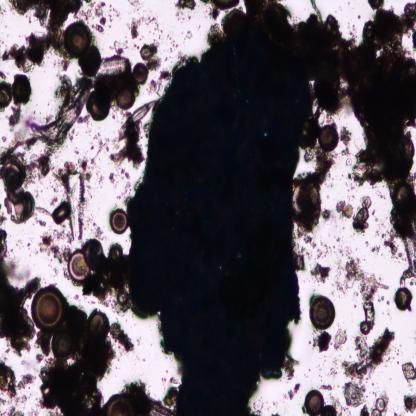Background material: (344, 35, 416, 182), (32, 302, 115, 416), (293, 0, 351, 111), (0, 258, 37, 350), (78, 254, 134, 312), (332, 254, 392, 303), (358, 0, 416, 50), (341, 328, 396, 380), (0, 29, 65, 69), (0, 132, 58, 174), (10, 0, 82, 28), (124, 382, 178, 416), (0, 362, 33, 416), (304, 150, 342, 188), (114, 128, 143, 168), (242, 0, 290, 24), (388, 200, 416, 238), (299, 102, 320, 150), (77, 0, 109, 31), (40, 231, 68, 266), (109, 319, 135, 354), (351, 194, 371, 237), (147, 63, 171, 96), (88, 133, 110, 165), (344, 379, 368, 406), (360, 300, 378, 335), (308, 328, 332, 352), (293, 216, 319, 237), (332, 323, 351, 350), (341, 125, 354, 159), (129, 16, 146, 41), (335, 199, 356, 219), (401, 358, 416, 385), (8, 106, 22, 134), (312, 264, 332, 283), (110, 35, 130, 54), (53, 171, 70, 193), (388, 229, 400, 260), (150, 17, 164, 41), (0, 227, 10, 260), (332, 399, 352, 415), (401, 393, 416, 414), (288, 379, 302, 401), (204, 24, 221, 42), (89, 219, 104, 239), (177, 0, 197, 14), (316, 241, 330, 260), (294, 254, 308, 273), (126, 0, 146, 13), (120, 180, 132, 199), (318, 208, 334, 222), (63, 158, 77, 174), (292, 240, 304, 257), (36, 205, 54, 216), (337, 246, 352, 258), (305, 234, 317, 249), (108, 3, 118, 21), (358, 404, 371, 416), (119, 168, 132, 180), (167, 33, 178, 47), (177, 12, 191, 22), (79, 160, 90, 171), (371, 244, 381, 256), (331, 357, 342, 367), (346, 182, 357, 192), (0, 3, 8, 16), (37, 217, 47, 227), (210, 10, 219, 21), (320, 384, 332, 392), (0, 69, 8, 80), (108, 173, 116, 184), (97, 175, 104, 187), (70, 127, 76, 141), (329, 369, 338, 378), (132, 41, 141, 50), (376, 190, 386, 198), (0, 132, 7, 143), (185, 29, 192, 40), (49, 196, 58, 204), (84, 172, 91, 182), (382, 231, 390, 239), (400, 252, 406, 262), (410, 278, 416, 288), (401, 276, 406, 287), (326, 181, 332, 188), (378, 294, 384, 301), (27, 241, 32, 249), (374, 216, 379, 224), (76, 147, 80, 155), (335, 237, 341, 242), (393, 411, 398, 416), (370, 380, 374, 386), (386, 301, 390, 306), (364, 242, 370, 245), (396, 352, 399, 356), (396, 360, 399, 364), (373, 210, 375, 216), (333, 244, 335, 249), (114, 116, 116, 120)
Cellulose filter fibre: (32, 78, 92, 144)
Diatom: (0, 154, 37, 224), (61, 170, 91, 247), (31, 284, 67, 330), (292, 178, 321, 221), (62, 21, 92, 61), (308, 295, 338, 329), (51, 328, 79, 364), (222, 6, 250, 42), (349, 153, 381, 184), (121, 102, 154, 130), (98, 54, 130, 82), (64, 246, 90, 279), (317, 121, 341, 156), (78, 42, 101, 78), (12, 74, 38, 104), (90, 89, 110, 127), (401, 227, 416, 277), (104, 394, 138, 416), (391, 181, 414, 212), (85, 238, 106, 270), (304, 387, 326, 416), (114, 82, 135, 112), (87, 308, 108, 338), (109, 207, 128, 236), (53, 201, 73, 225), (396, 285, 414, 311), (133, 59, 149, 86), (209, 0, 243, 10), (0, 83, 11, 109), (109, 242, 122, 261), (140, 42, 152, 60), (321, 403, 337, 416), (117, 291, 129, 305), (375, 397, 385, 412), (370, 408, 380, 416)
Fragment: (124, 0, 314, 416)
